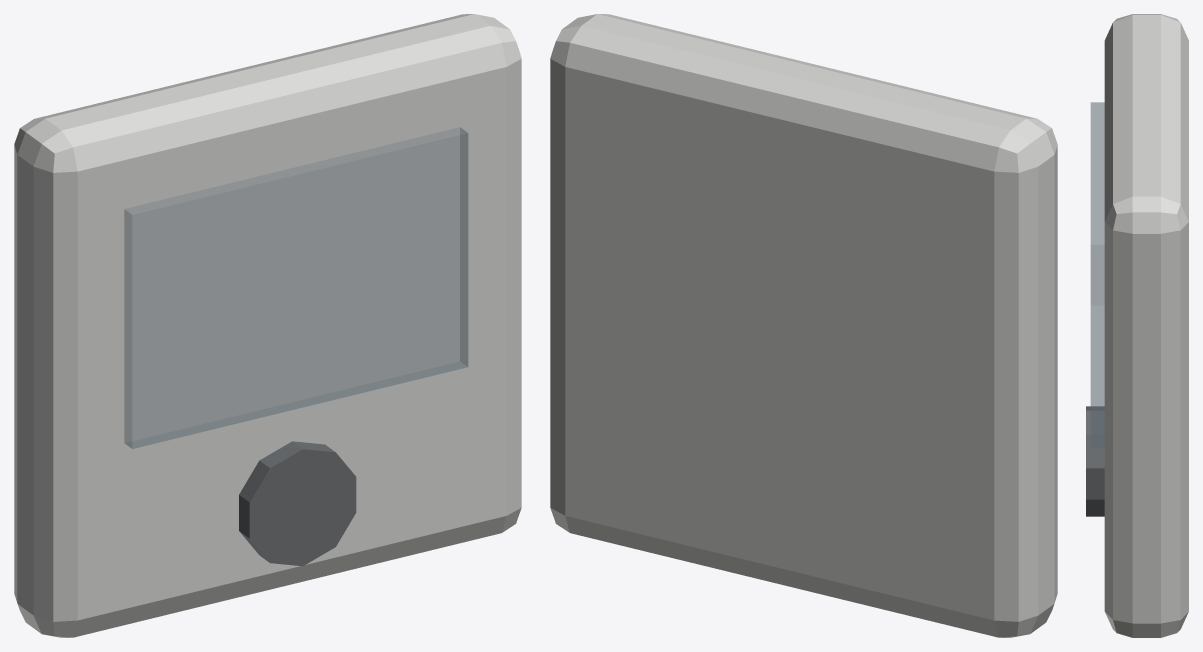
The model's file is device-thermostat.glb.
3 renders of one model, left to right at view 1: azimuth 30°, elevation 25°; view 2: azimuth 150°, elevation 25°; view 3: azimuth 270°, elevation 25°, orthographic. The views are drawn at different scales.
Parts seen in each view (by area): view 1: Body.004, Screen, Dial; view 2: Body.004; view 3: Body.004, Screen, Dial.
Boxes of the visible parts, box(x1,y1,x2,y2) form: Body.004: box(14, 14, 521, 637); Screen: box(124, 127, 468, 448); Dial: box(239, 441, 356, 566); Body.004: box(550, 14, 1057, 637); Body.004: box(1104, 14, 1188, 637); Screen: box(1090, 102, 1104, 447); Dial: box(1086, 406, 1104, 516).
Size of the model in its own units: 0.104 by 0.104 by 0.022.
